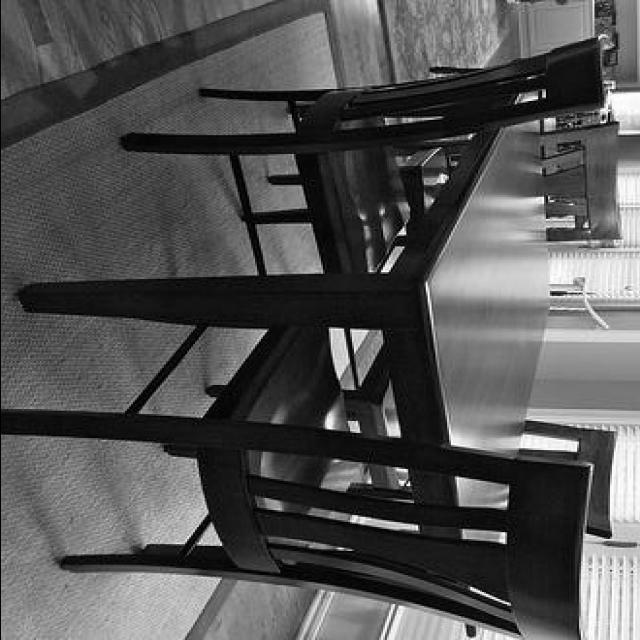chair: (2, 302, 590, 638), (123, 22, 610, 291)
table: (18, 59, 576, 599)
